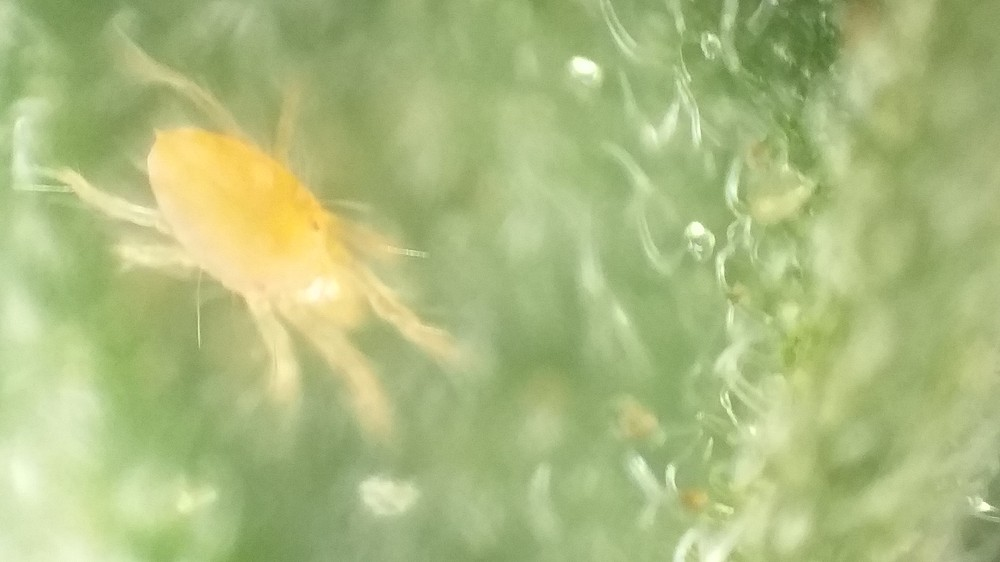Aracnido Rojo: (45, 37, 513, 476)
